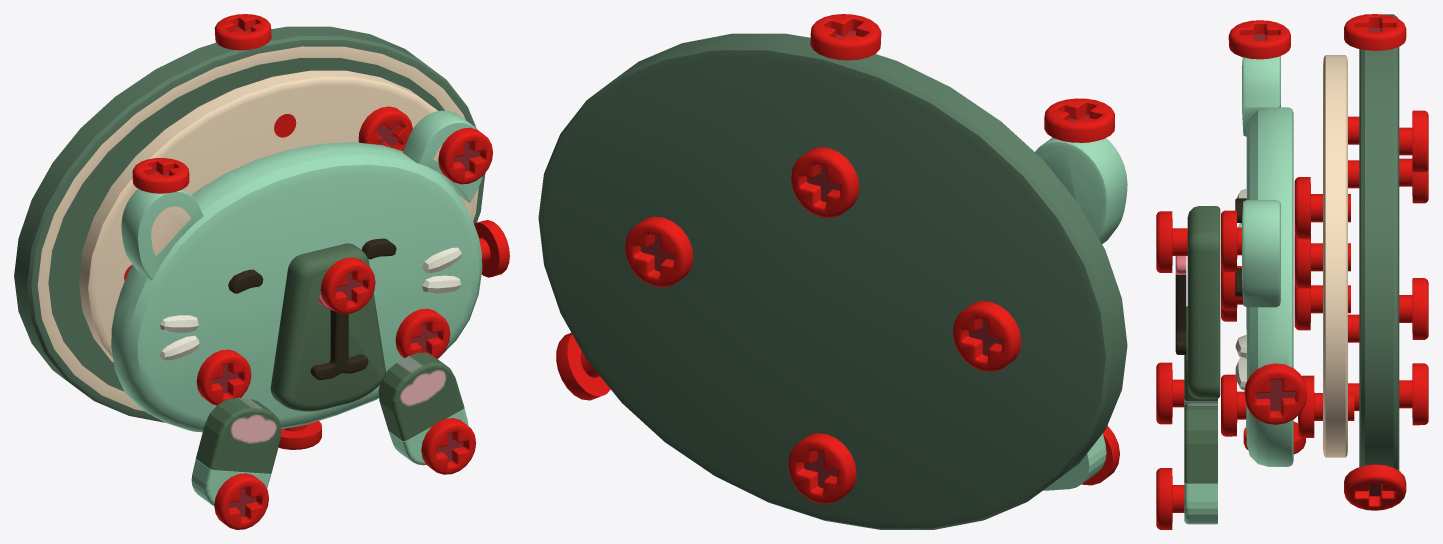
Rendered from level_2.fbx.
3 views of the same model, side by side, from view 1: azimuth 30°, elevation 25°; view 2: azimuth 150°, elevation 25°; view 3: azimuth 270°, elevation 25° (orthographic). The views are drawn at different scales.
Parts seen in each view (by area): view 1: Cylinder.008, Cylinder.006, Cylinder.009, Cube.006, Cube.010, Cube.004, Cylinder.010, obj_screw.007, obj_screw.008, obj_screw.006, obj_screw.012, obj_screw.010 (+6 smaller); view 2: Cylinder.006, Cylinder.008, obj_screw.018, obj_screw.013, obj_screw.016, obj_screw.017, obj_screw.020, obj_screw.021, obj_screw.019, Cube.010, obj_screw.007; view 3: Cylinder.006, Cylinder.008, Cylinder.009, Cube.006, Cylinder.010, Cube.004, obj_screw.014, obj_screw.019, obj_screw.021, obj_screw.020, obj_screw.026, obj_screw.006 (+17 smaller).
Part boxes in pixels (x1,y1,x2,y2): Cylinder.008: (111,142,482,432); Cylinder.006: (14,26,485,422); Cylinder.009: (79,70,475,362); Cube.006: (270,243,385,411); Cube.010: (191,397,281,505); Cube.004: (378,352,468,465); Cylinder.010: (403,110,482,202); obj_screw.007: (214,473,268,529); obj_screw.008: (421,418,475,474); obj_screw.006: (320,257,375,313); obj_screw.012: (438,127,492,184); obj_screw.010: (196,349,251,405); Cylinder.006: (538,33,1127,529); Cylinder.008: (1035,137,1127,243); obj_screw.018: (788,433,856,503); obj_screw.013: (791,147,859,217); obj_screw.016: (953,301,1021,371); obj_screw.017: (625,216,693,287); obj_screw.020: (810,14,881,60); obj_screw.021: (1044,98,1114,142); obj_screw.019: (556,332,610,400); Cube.010: (1043,433,1106,490); obj_screw.007: (1082,425,1119,485); Cylinder.006: (1359,14,1399,470); Cylinder.008: (1235,56,1293,466); Cylinder.009: (1323,55,1347,457); Cube.006: (1175,206,1220,399); Cylinder.010: (1242,200,1280,307); Cube.004: (1184,403,1217,524); obj_screw.014: (1244,363,1307,424); obj_screw.019: (1344,464,1406,510); obj_screw.021: (1228,20,1290,59); obj_screw.020: (1344,14,1406,50); obj_screw.026: (1294,177,1350,239); obj_screw.006: (1156,211,1187,272).
Size of the model in its own units: 6.82 by 5.84 by 3.2.
